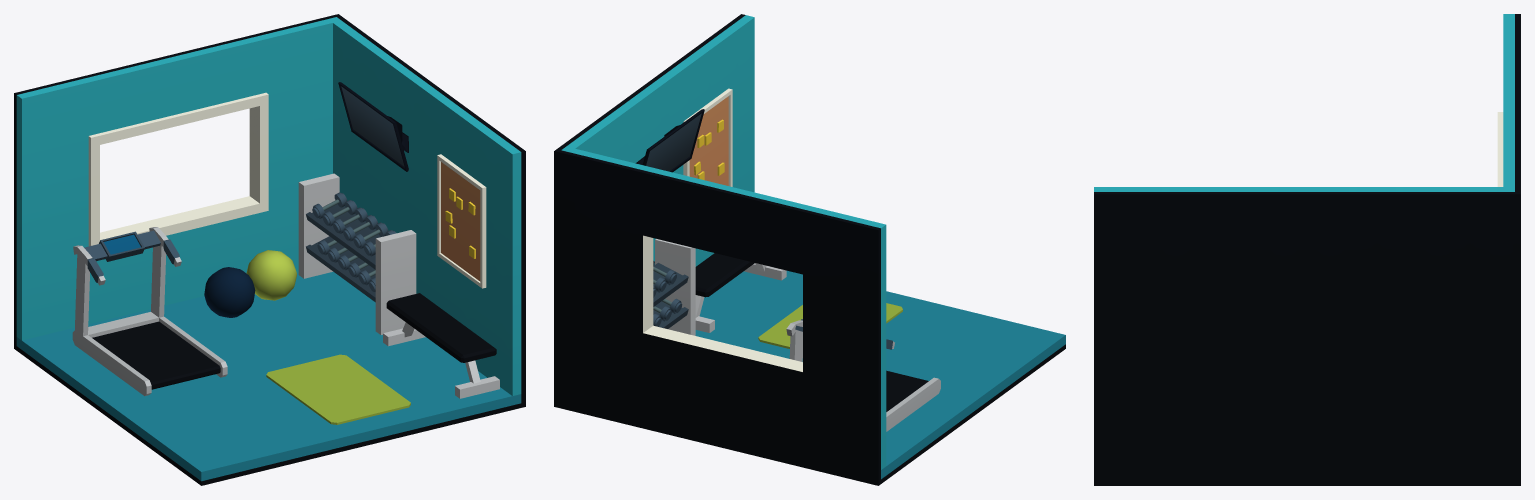
The model's file is roomCamera2.glb.
3 renders of one model, left to right at view 1: azimuth 30°, elevation 25°; view 2: azimuth 150°, elevation 25°; view 3: azimuth 270°, elevation 25°, orthographic. The views are drawn at different scales.
Visible parts, largest first — view 1: Walls1, Treadmill, pCube8, Cork_Board, Side_Right, Seat, TV1, Side_Left, YogaBall1, YogaBall, Shelf_Top, Shelf_Bottom (+1 smaller); view 2: Walls1, Cork_Board, Treadmill, Side_Right, TV1, Seat, pCube8, Shelf_Top; view 3: Walls1.
Part boxes in pixels (x1=…): Walls1: x1=14, y1=14, x2=525, y2=485; Treadmill: x1=72, y1=227, x2=227, y2=396; pCube8: x1=266, y1=354, x2=410, y2=424; Cork_Board: x1=437, y1=154, x2=486, y2=288; Side_Right: x1=375, y1=230, x2=416, y2=334; Seat: x1=386, y1=293, x2=496, y2=362; TV1: x1=338, y1=82, x2=408, y2=171; Side_Left: x1=298, y1=173, x2=339, y2=278; YogaBall1: x1=204, y1=267, x2=255, y2=317; YogaBall: x1=246, y1=250, x2=296, y2=300; Shelf_Top: x1=306, y1=204, x2=380, y2=269; Shelf_Bottom: x1=306, y1=236, x2=375, y2=302; Walls1: x1=554, y1=14, x2=1065, y2=485; Cork_Board: x1=683, y1=88, x2=732, y2=186; Treadmill: x1=786, y1=319, x2=940, y2=431; Side_Right: x1=655, y1=239, x2=695, y2=335; TV1: x1=635, y1=109, x2=704, y2=172; Seat: x1=695, y1=253, x2=754, y2=297; pCube8: x1=758, y1=303, x2=902, y2=348; Shelf_Top: x1=653, y1=262, x2=688, y2=306; Walls1: x1=1094, y1=14, x2=1520, y2=485.
Size of the model in its own units: 3.65 by 2.75 by 3.65.
1 material, 1 textured.
